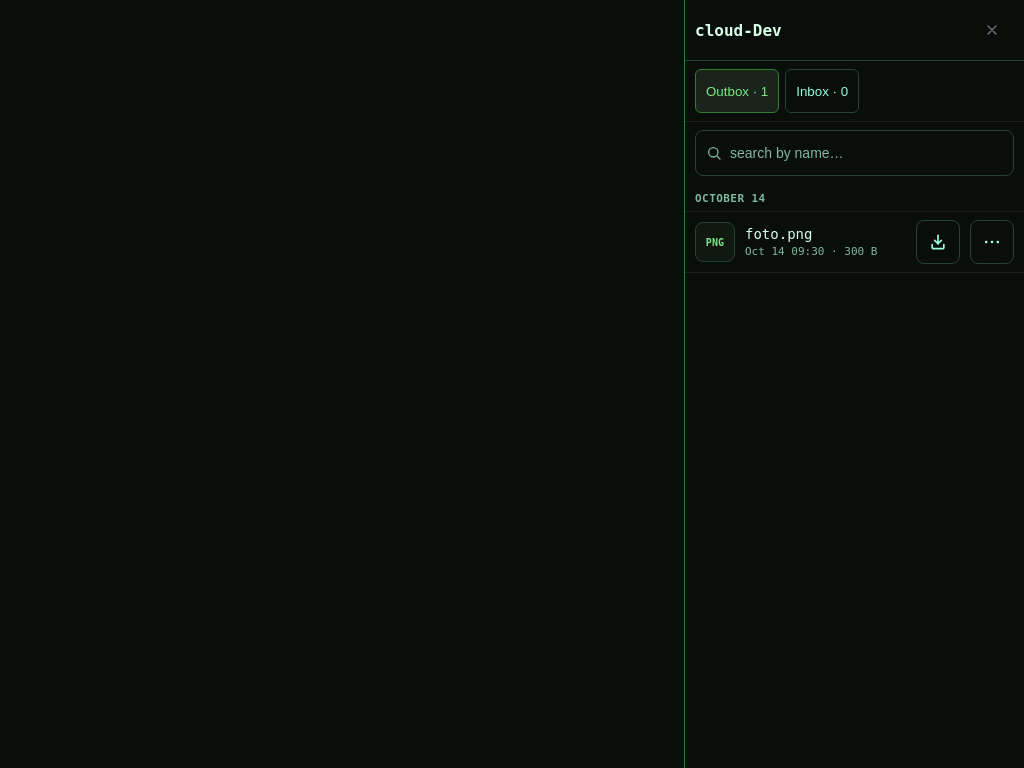
Test: FilesPanel anteprima sicura (SVG e MIME del blob) › blob SVG arrivato sotto nome .png: nessuna navigazione, avviso esplicito, nessun object URL
Expected: the text "foto.png" is shown, 745,226 -> 812,242
Click the button titled "file actions".
click(992, 242)  # box 970,220 -> 1014,264
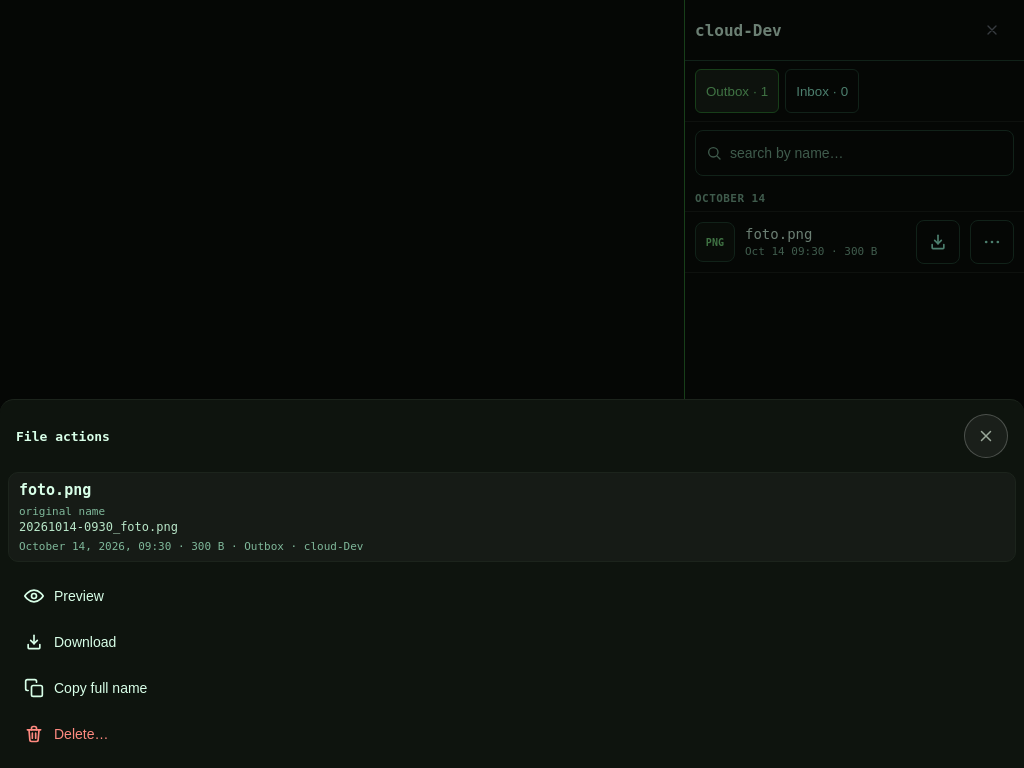
Click the menu item "Preview".
click(79, 596)  # box 12,574 -> 1012,618
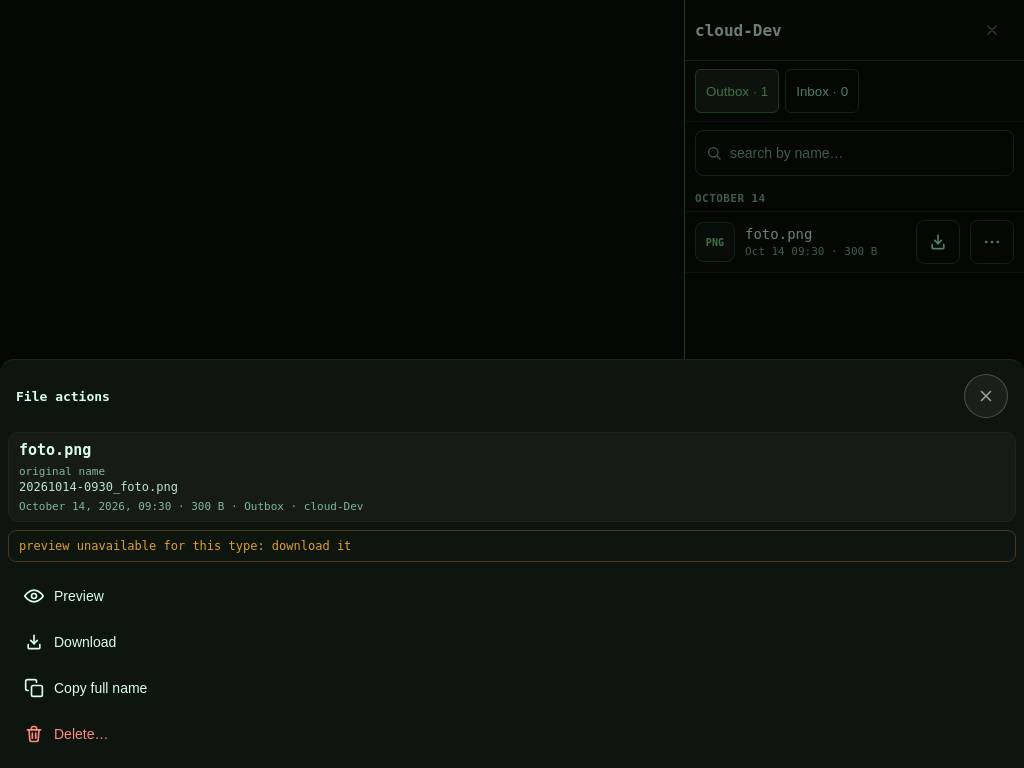
Result: the text "preview unavailable for this type: download it" is shown at 8,530 -> 1016,562
